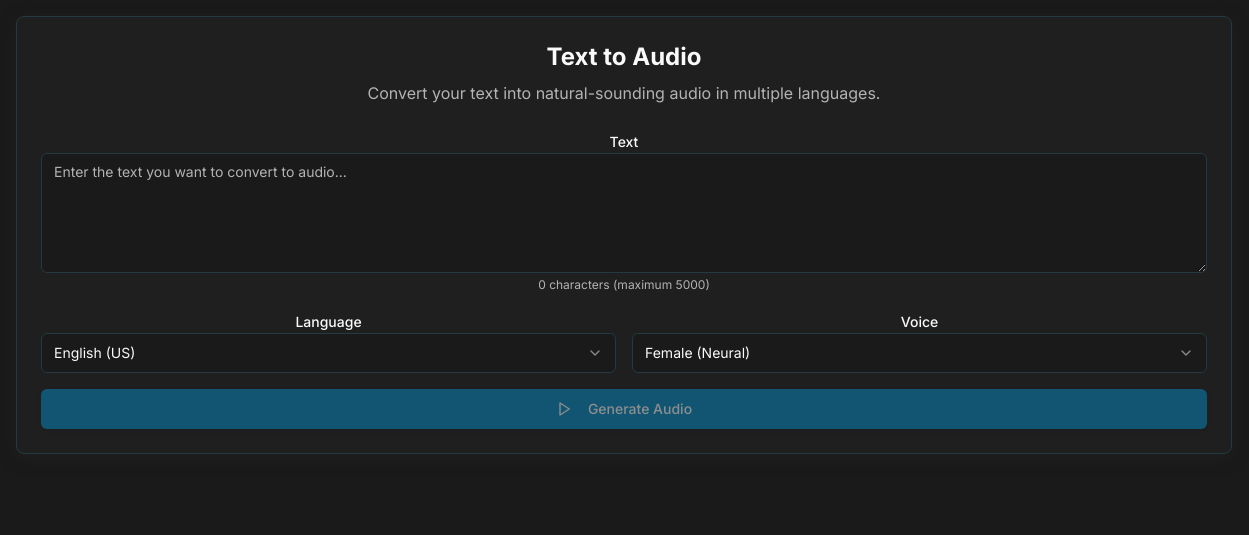
Test: TextToAudioTabContent Component › handles API error
Note: Enter text and submit
Type "This is a test message for audio generation." into the text box labelled "Text" at (624,213), box [41, 153, 1207, 273]
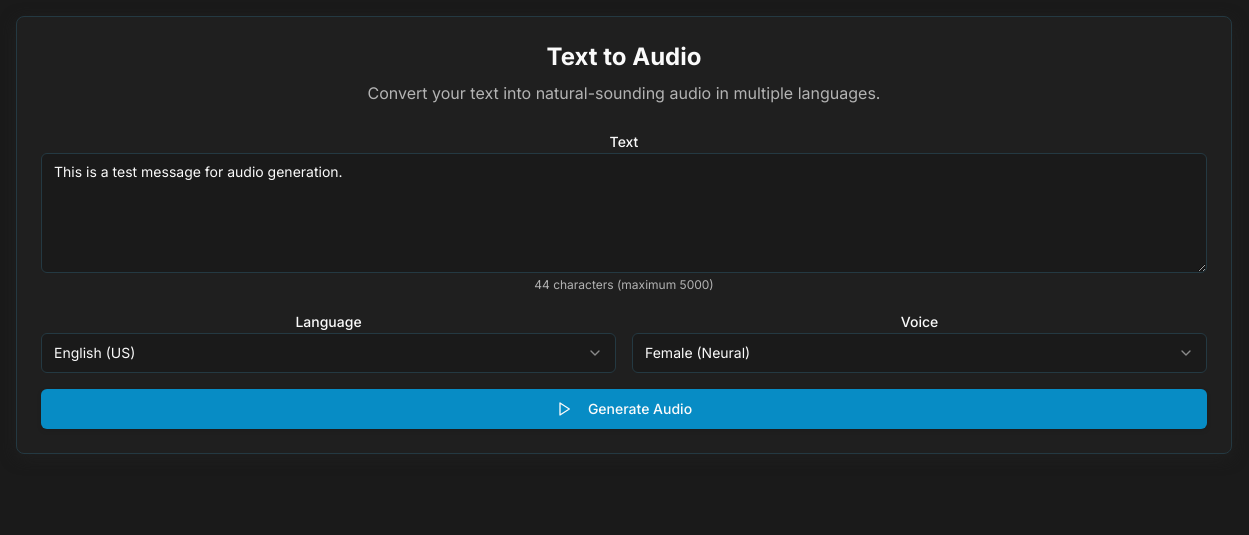
Click the button "Generate Audio" at (624,409), box [41, 389, 1207, 429]
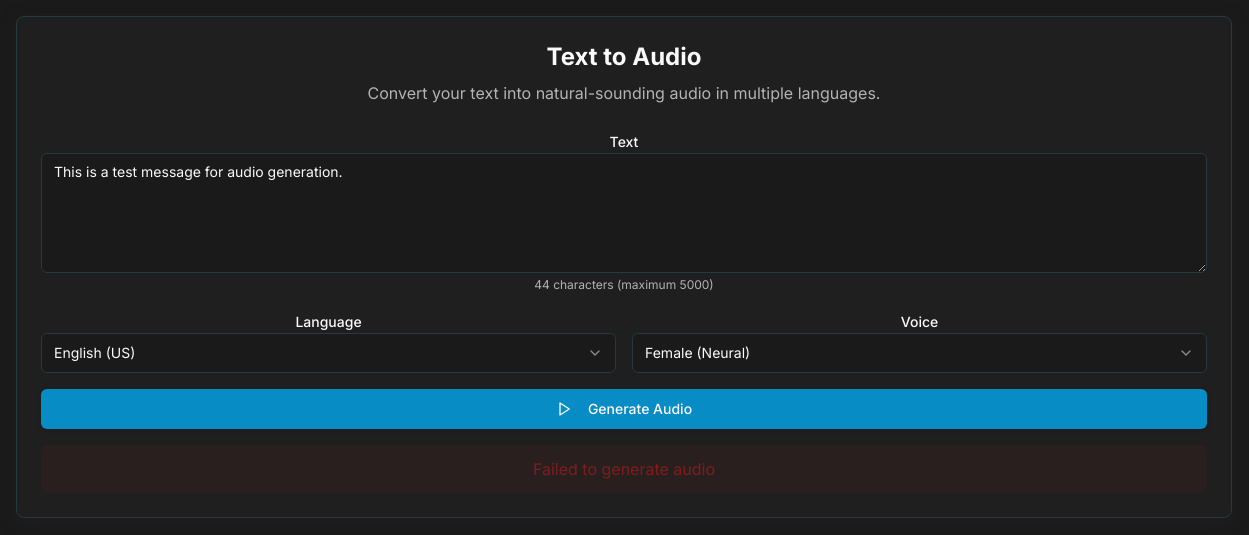
Now the text "Failed to generate audio" is shown, box [41, 445, 1207, 493]
